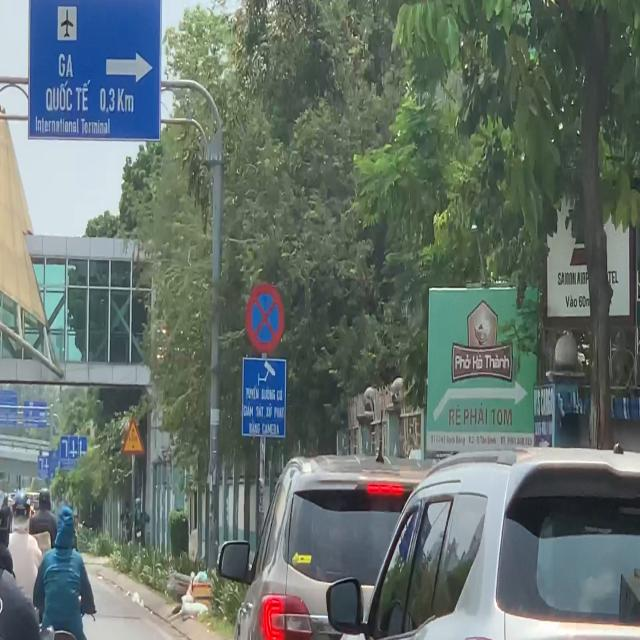Cam dung va do: (246, 283, 284, 353)
Nguy hiem: (121, 417, 145, 455)
